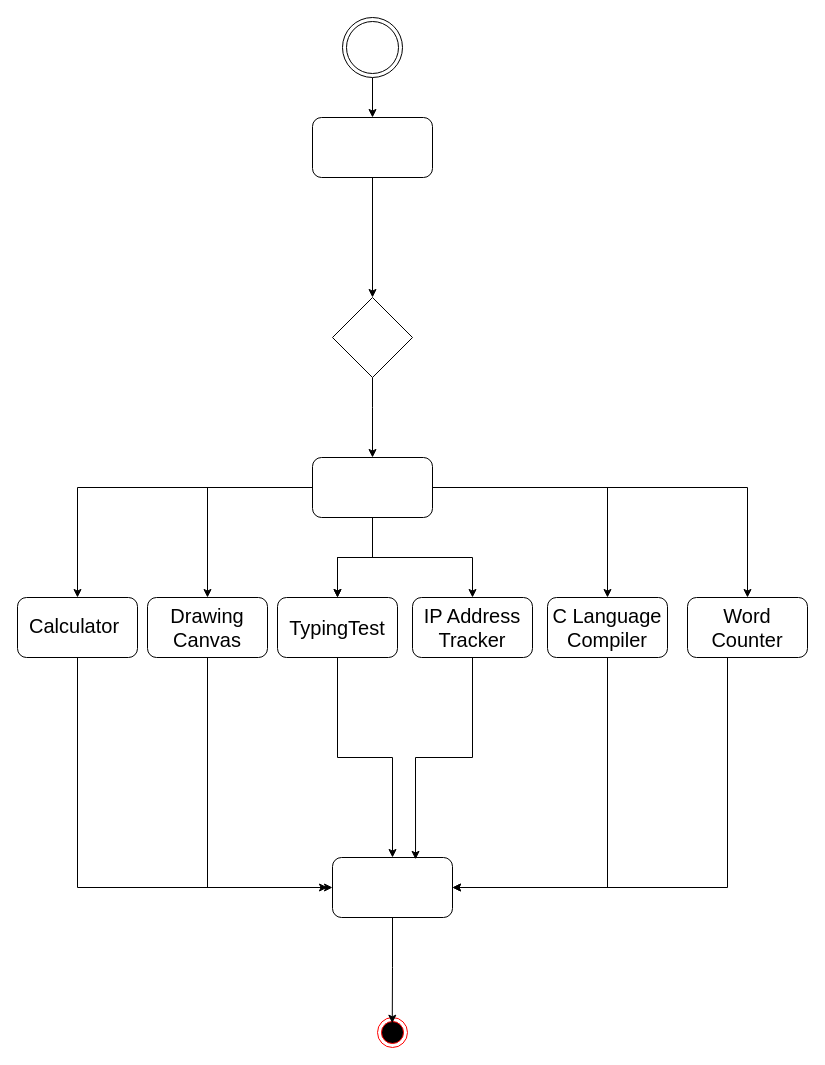
The diagram is 825 pixels wide and 1065 high, and some of its shapes have lost their labels. The centre of each missing label's shape, as x and y in pixels:
"Dashboard" belongs at point 372,487.
"login" belongs at point 372,147.
"Logout" belongs at point 392,887.
